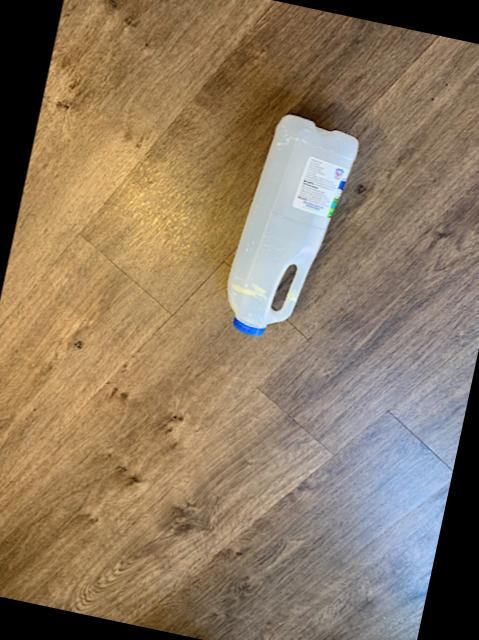plastic: (226, 116, 356, 335)
